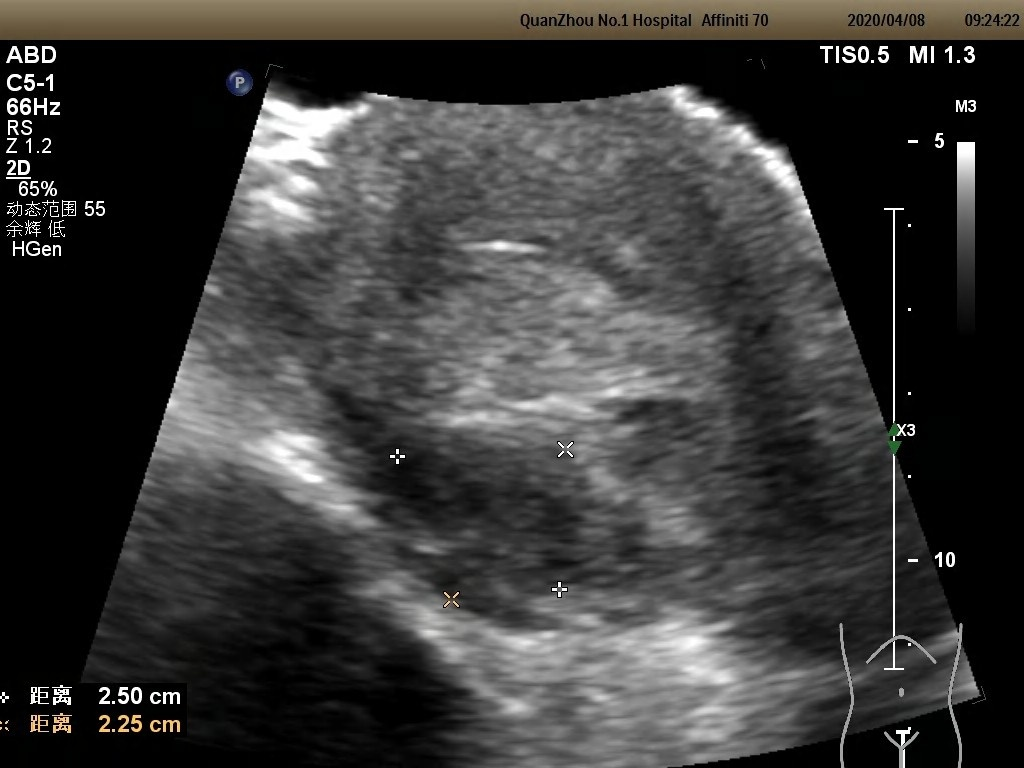肌瘤: (397, 447, 564, 601)
